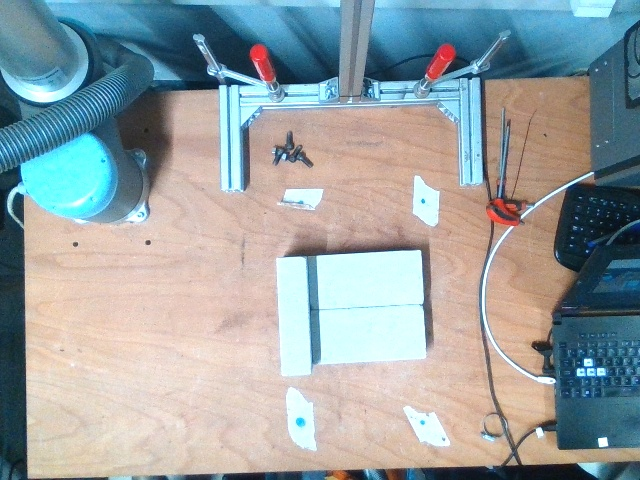brick-side: (274, 255, 312, 378)
